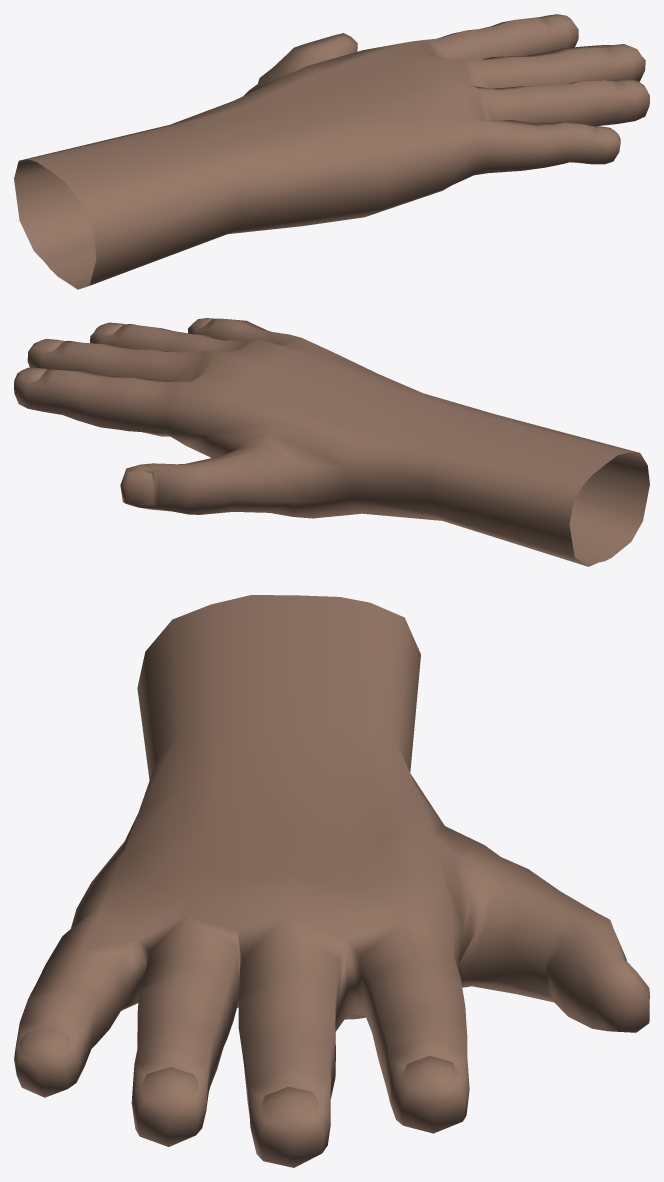
The model's file is hand.obj.
3 renders of one model, top to bottom at view 1: azimuth 30°, elevation 25°; view 2: azimuth 150°, elevation 25°; view 3: azimuth 270°, elevation 25°, orthographic. The views are drawn at different scales.
Parts seen in each view (by area): view 1: Cube.000_Cube.017; view 2: Cube.000_Cube.017; view 3: Cube.000_Cube.017.
Boxes of the visible parts, x1,y1,x2,y2 form: Cube.000_Cube.017: (14,14,649,289); Cube.000_Cube.017: (14,318,649,566); Cube.000_Cube.017: (14,595,649,1167).
Bounding box in the file's own units: 0.2575 × 0.0487 × 0.1398.
